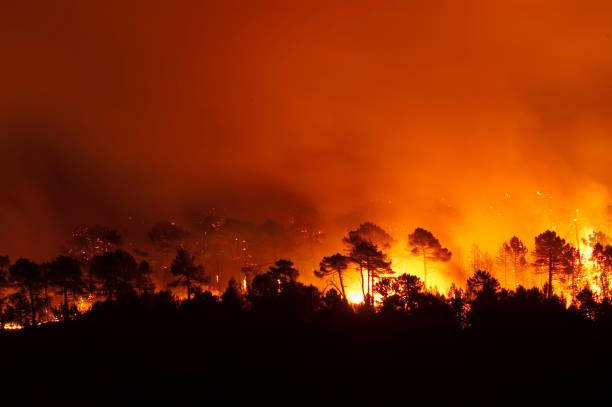Fire: (405, 260, 463, 289), (580, 226, 596, 271), (344, 274, 366, 304)
